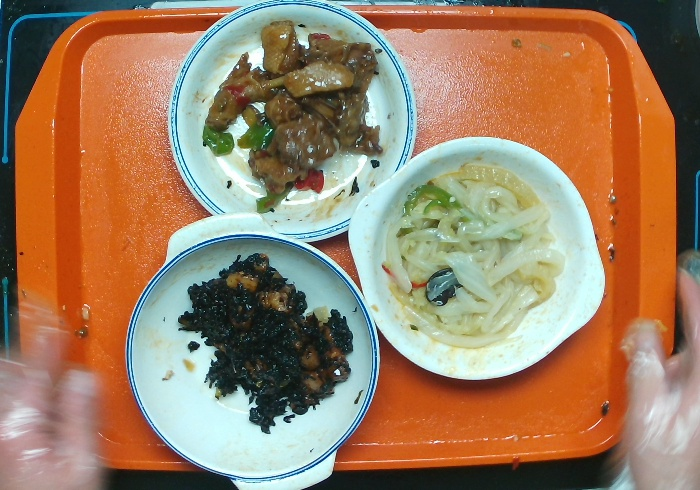HZYJPL-Dai_Er_Bai_Yuan_Wan: (341, 129, 616, 382)
HZYJPL-Lan_Bian_Dai_Er_Wan: (118, 206, 388, 490)
HZYJPL-Lan_Bian_Yuan_Die: (159, 1, 434, 253)
